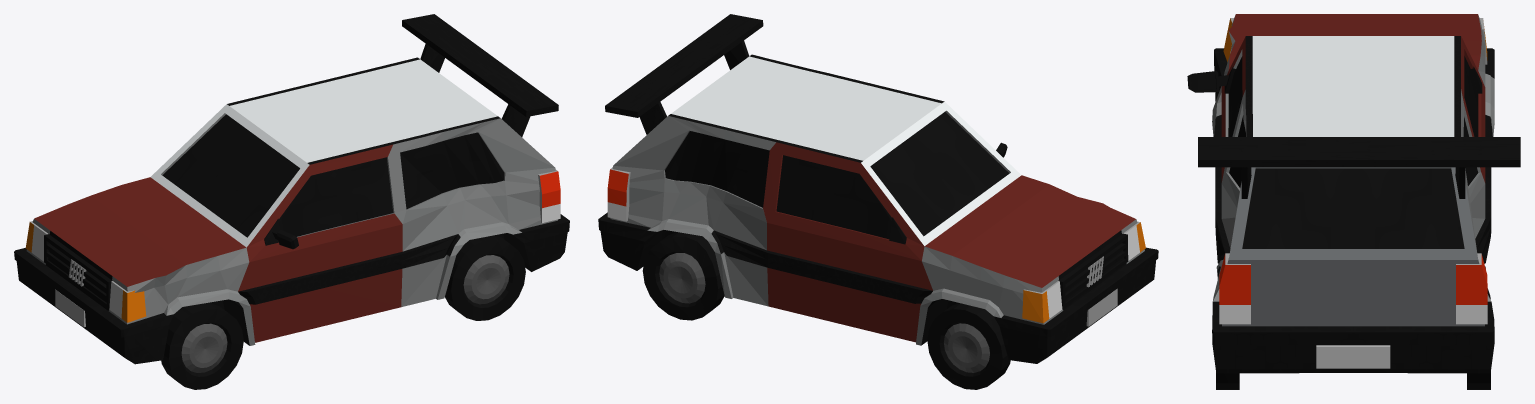
Rendered from PandiNo_BiancoRotto.fbx.
3 renders of one model, left to right at view 1: azimuth 30°, elevation 25°; view 2: azimuth 150°, elevation 25°; view 3: azimuth 270°, elevation 25°, orthographic. The views are drawn at different scales.
Visible parts, largest first — view 1: pCube5; view 2: pCube5; view 3: pCube5.
Part boxes in pixels (box(x1,y1,x2,y2)): pCube5: box(14, 14, 569, 389); pCube5: box(598, 14, 1158, 389); pCube5: box(1187, 14, 1520, 389).
Bounding box in the file's own units: 20.63 × 9.08 × 10.23.
